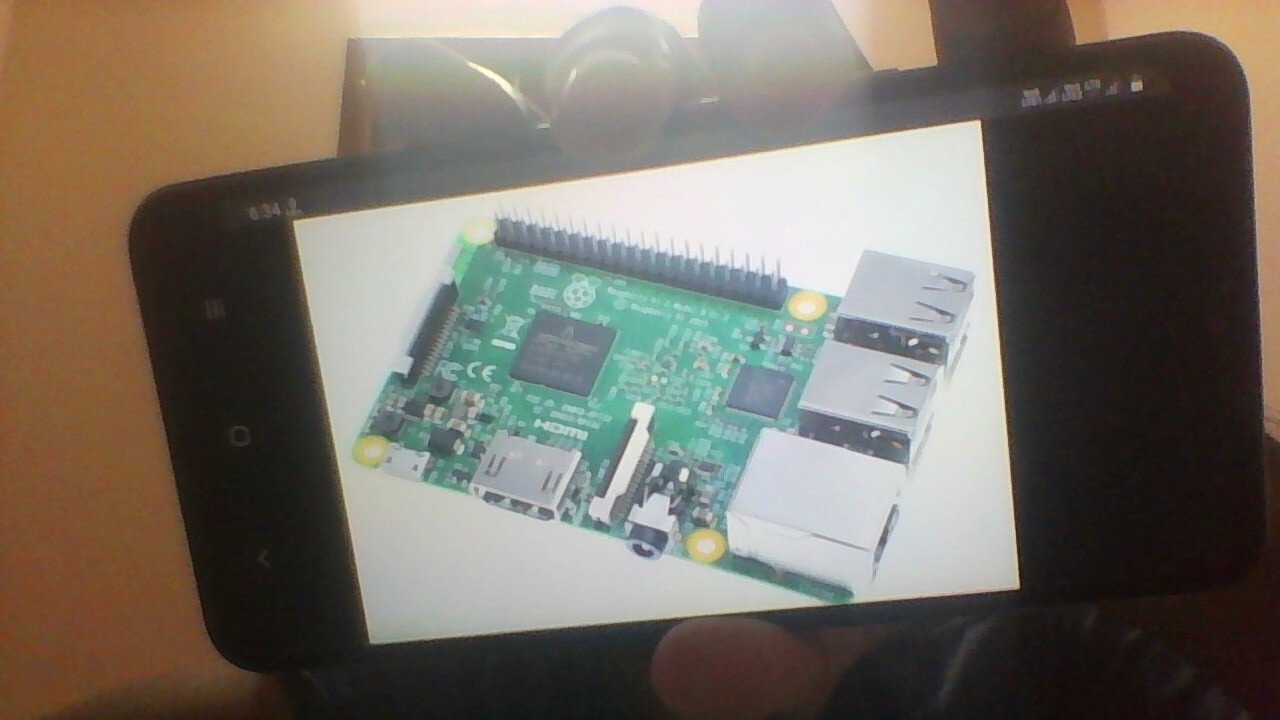aud: (633, 455, 695, 561)
eth: (727, 431, 906, 583)
usb: (809, 337, 946, 442), (844, 250, 978, 348)
